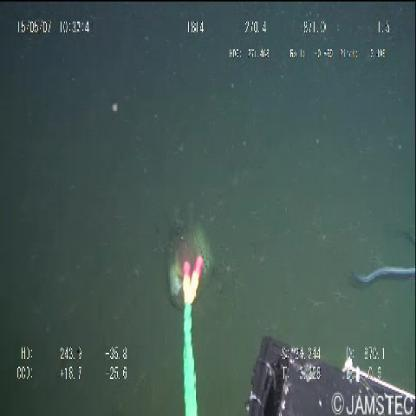Rác: (166, 199, 214, 313)
